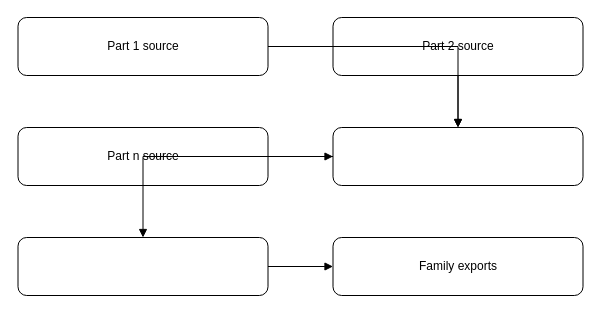
This 600x313 diagram has some shape labels left out. The shapes that lost their labels are listed below. From the top down, each one's centre as x and y in pixels, then its label:
At point (457, 156): "Part documents".
At point (142, 266): "Family composition".
